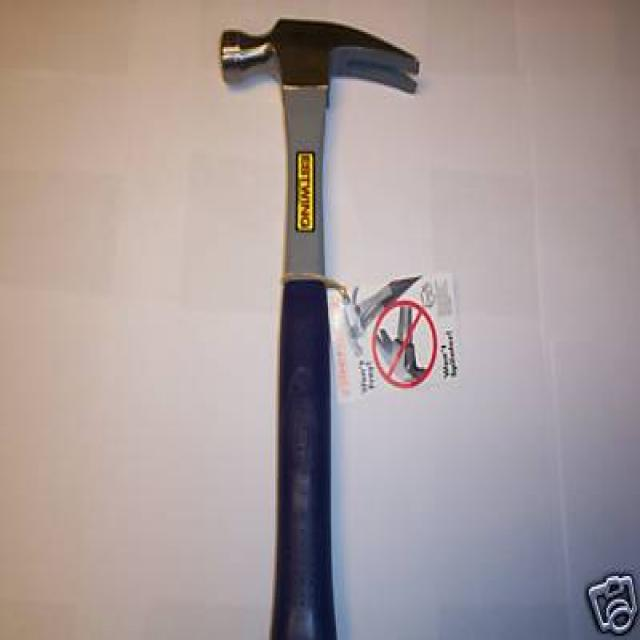hammer: (214, 12, 425, 640)
